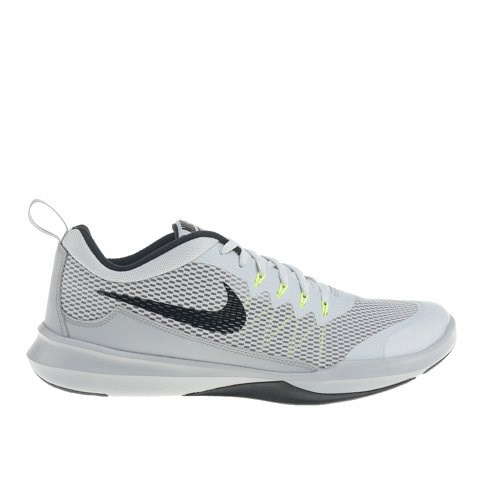nike: (91, 280, 250, 339)
